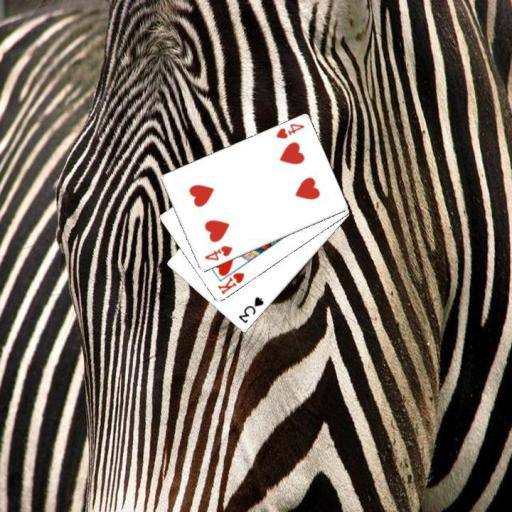3S: (236, 294, 266, 325)
4H: (272, 121, 306, 141), (201, 243, 234, 263)
KH: (214, 270, 246, 297)
